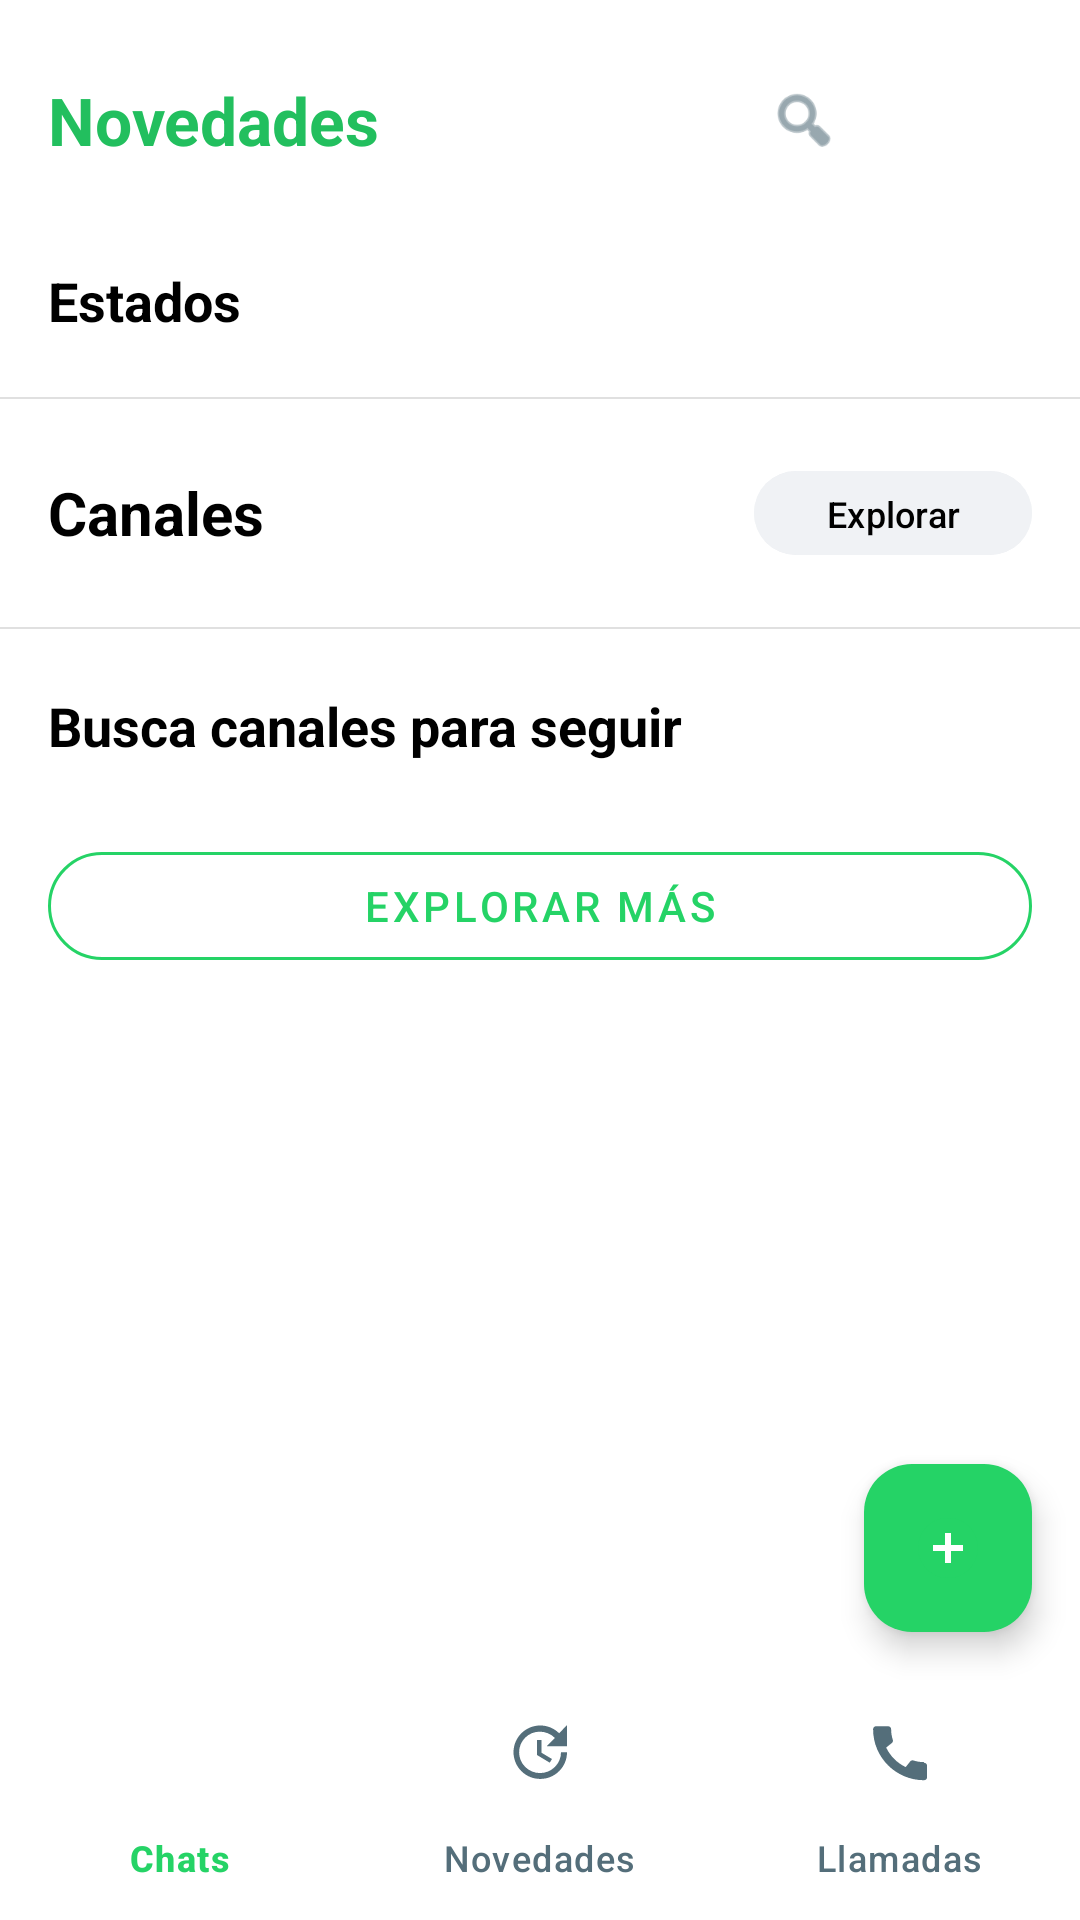

Screen size 1080px x 1920px. Icon name, then its center in pixels as [x,y]:
Buscar: [804,120]
Nuevo estado: [948,1548]
